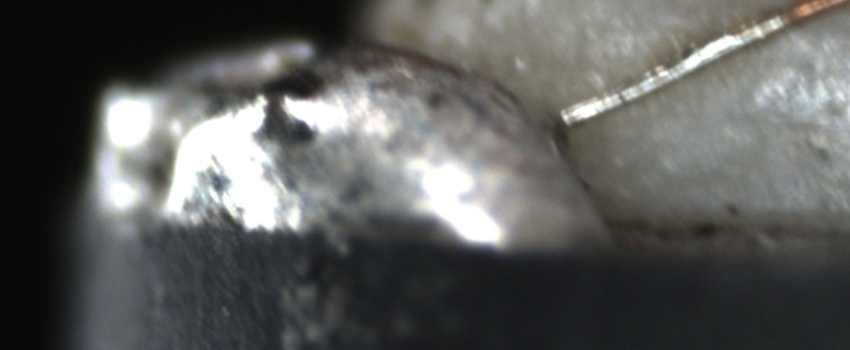DL: (585, 13, 850, 58), (697, 90, 850, 146)
TS: (556, 13, 790, 125)
